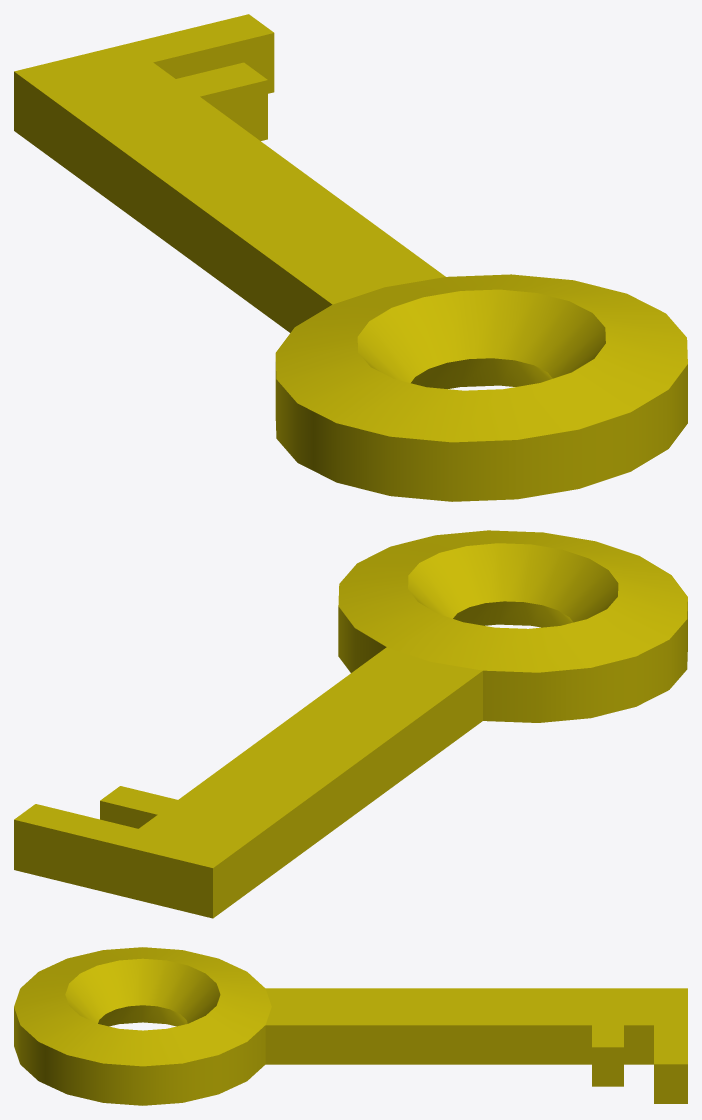
File: key.fbx
3 renders of one model, top to bottom at view 1: azimuth 30°, elevation 25°; view 2: azimuth 150°, elevation 25°; view 3: azimuth 270°, elevation 25°, orthographic. The views are drawn at different scales.
Visible parts, largest first — view 1: polySurface1; view 2: polySurface1; view 3: polySurface1.
Part boxes in pixels (box(x1,y1,x2,y2)): polySurface1: box(14, 14, 687, 501); polySurface1: box(14, 530, 687, 918); polySurface1: box(14, 947, 687, 1105).
Bounding box in the file's own units: 1.4 × 0.3492 × 3.35.
